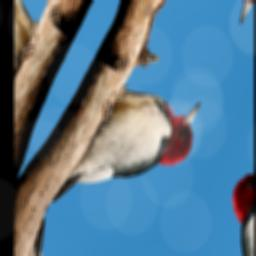Woodpecker: (51, 50, 211, 256)
